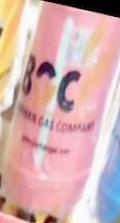cylinder: (0, 1, 120, 223)
